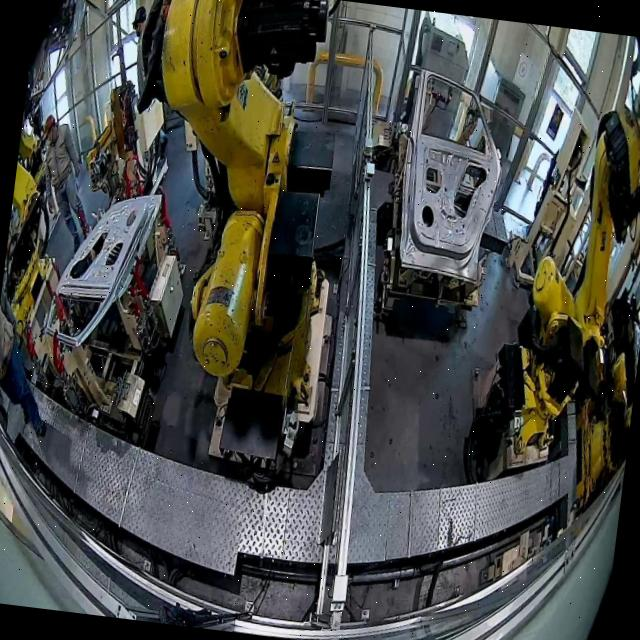Person: (27, 113, 105, 260), (0, 281, 64, 438), (121, 0, 185, 119), (16, 95, 46, 169)
